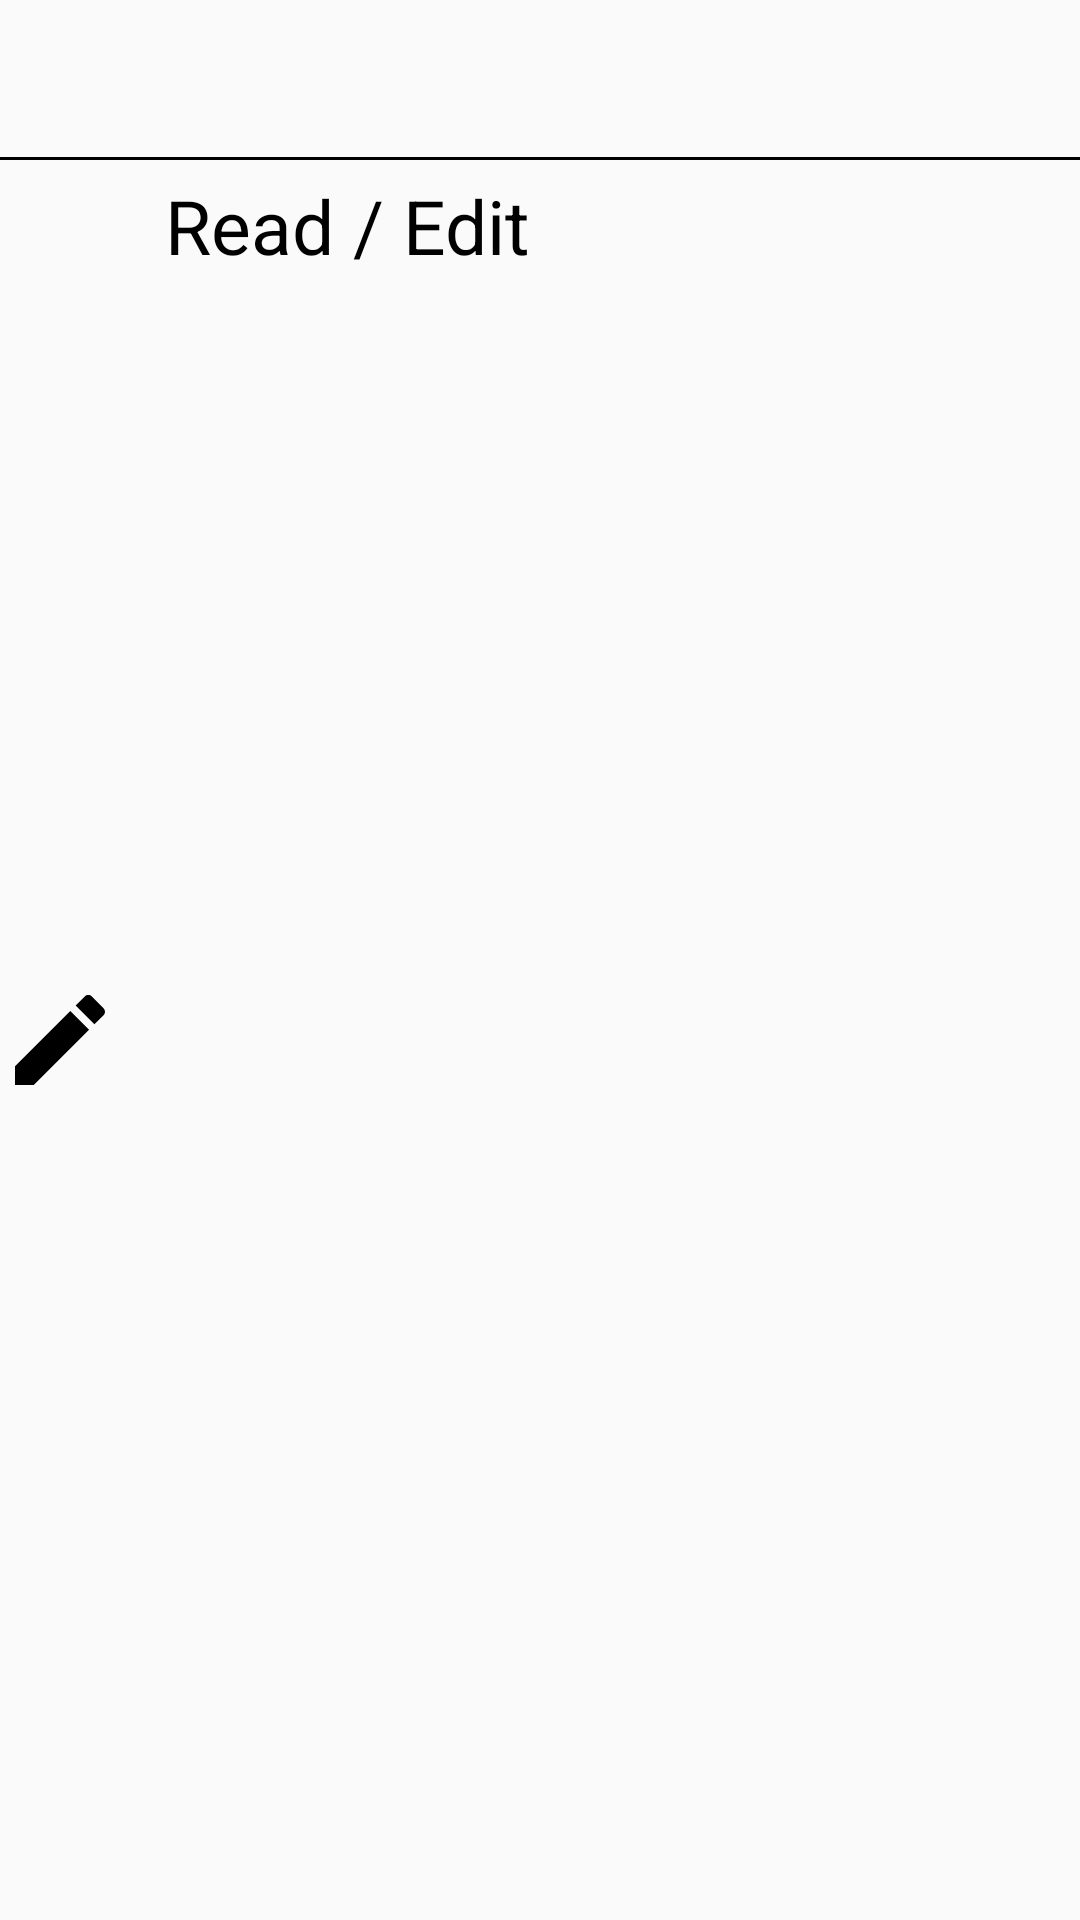

Icon bounding boxes for this 1080px×1920px phone screenshot, format (x1, y1, x2, y2):
edit: (15, 995, 105, 1085)
